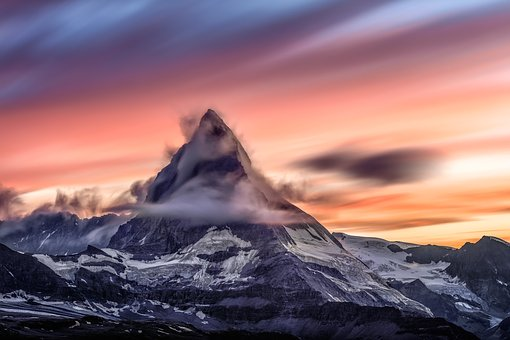mountain: (11, 128, 509, 340), (134, 118, 356, 334)
sky: (3, 2, 510, 218)
